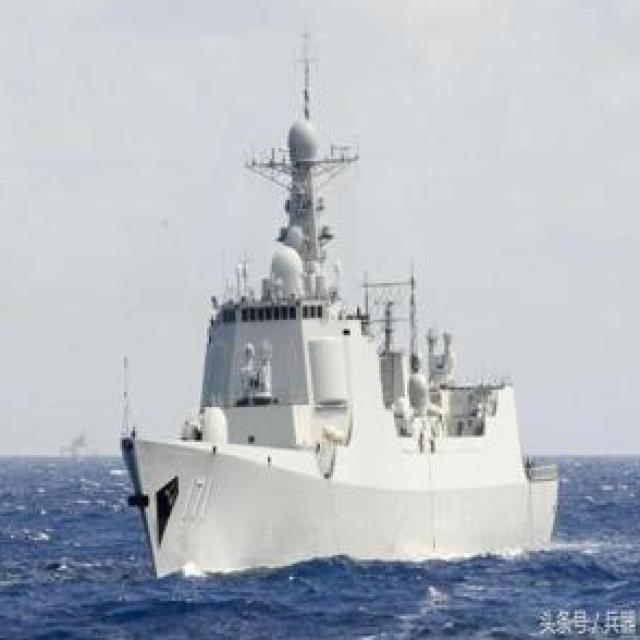navalvessels: (120, 30, 560, 574)
